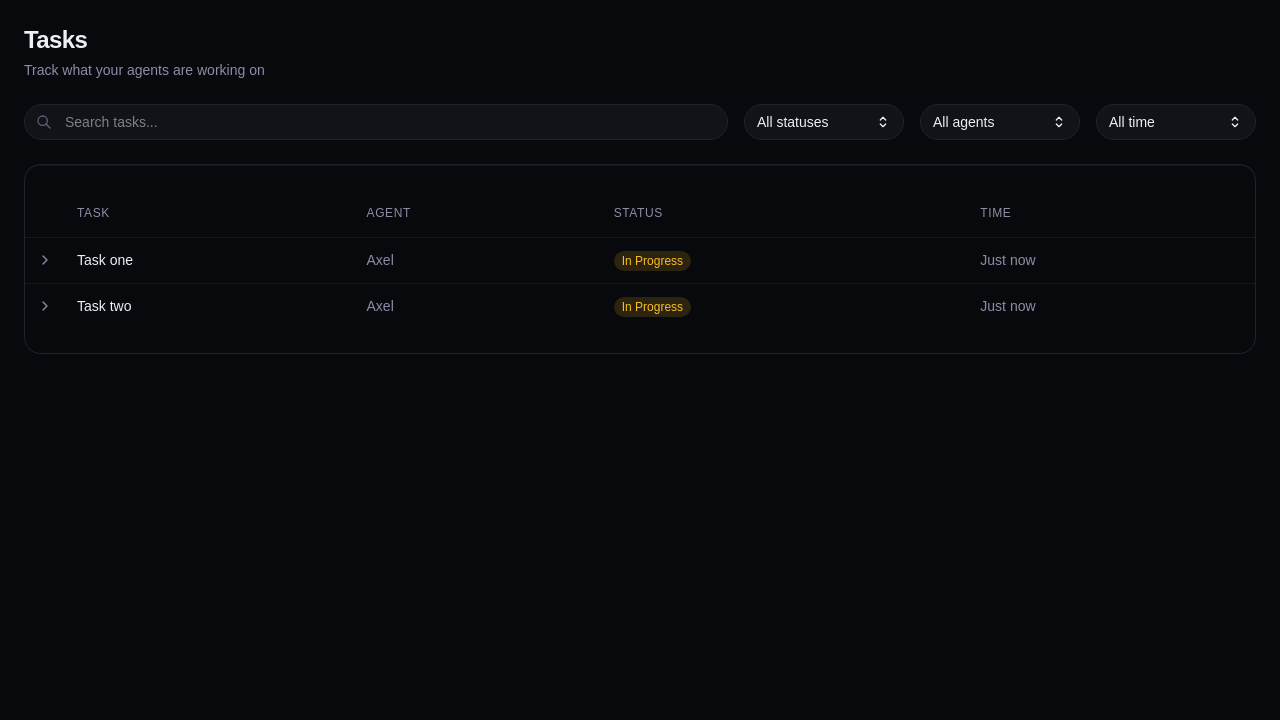
Test: Tasks page › clears stale detail when switching to a different row
The image size is (1280, 720).
What coordinates should you click on to do the following:
click the text "Task one"
I would click on:
 (105, 260)
Its box is [65,237,354,283].
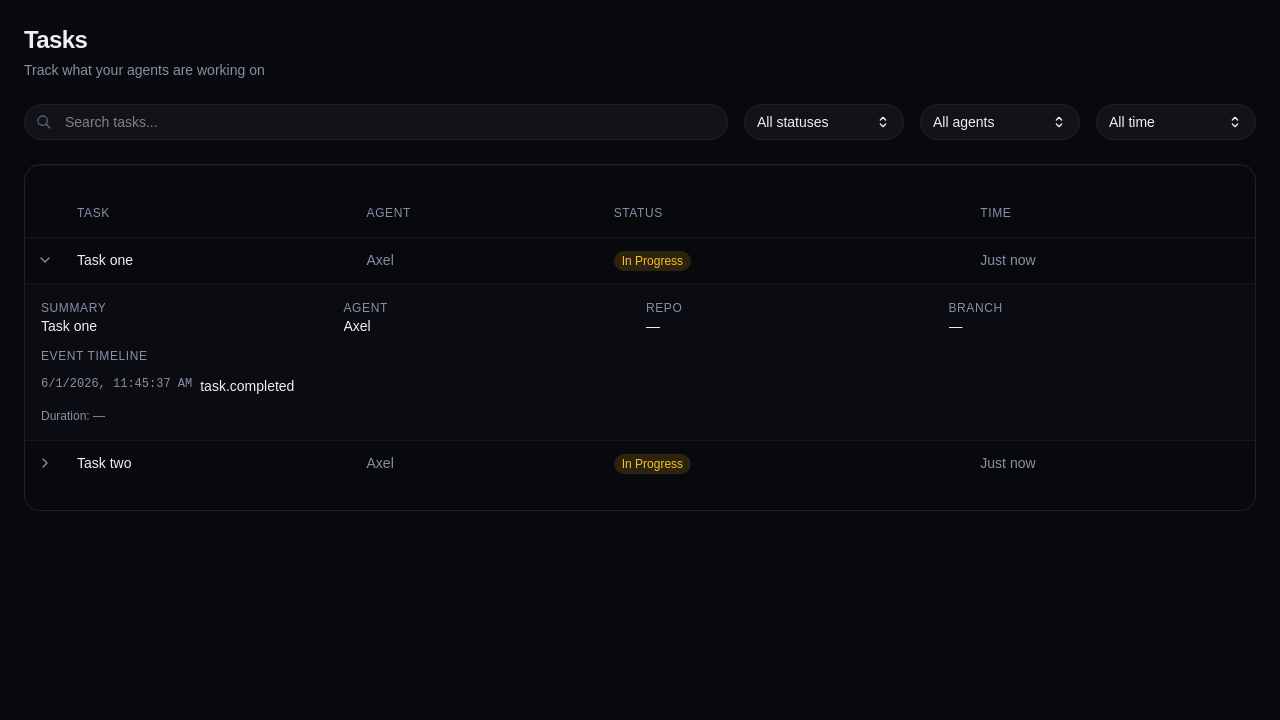
expect the text "task.completed" is shown: met, box [200,376,294,396]
What coordinates should you click on to do the following:
click the text "Task two"
I would click on:
 (104, 463)
Its box is [65,440,354,486].
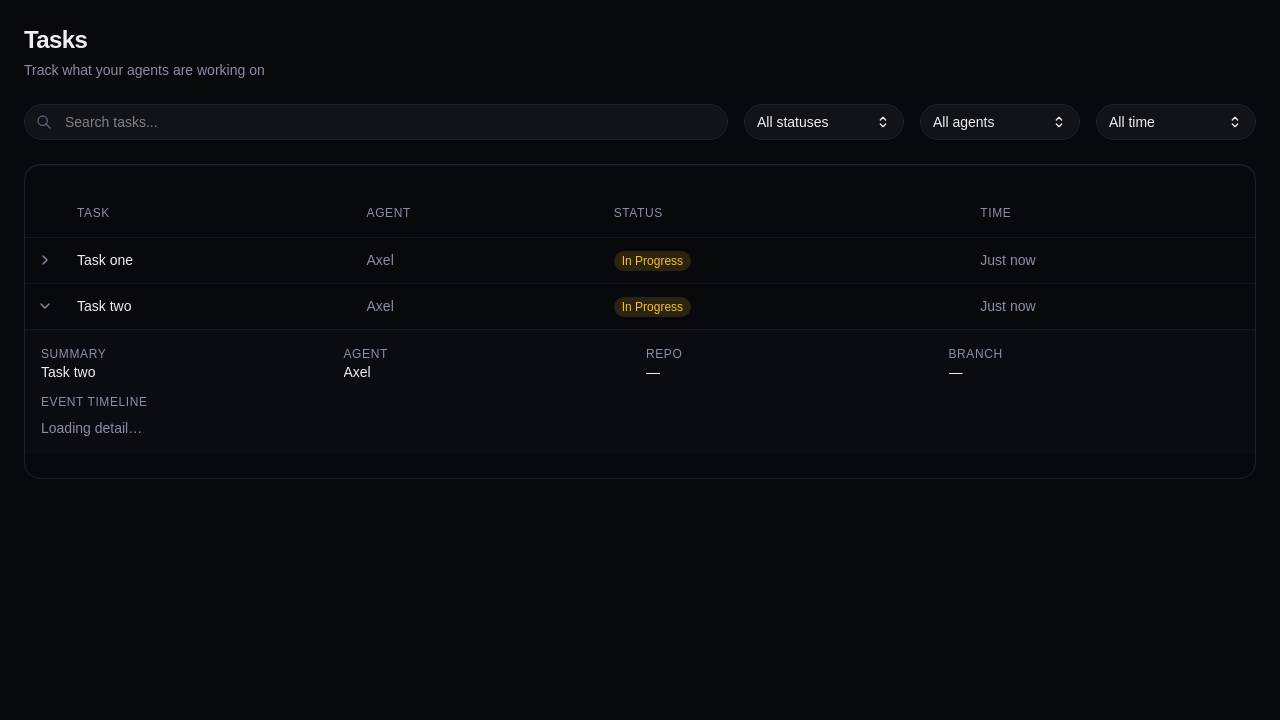
expect the text "task.completed" is gone: met
expect the text "Loading detail…" is shown: met, box [41,420,142,436]
